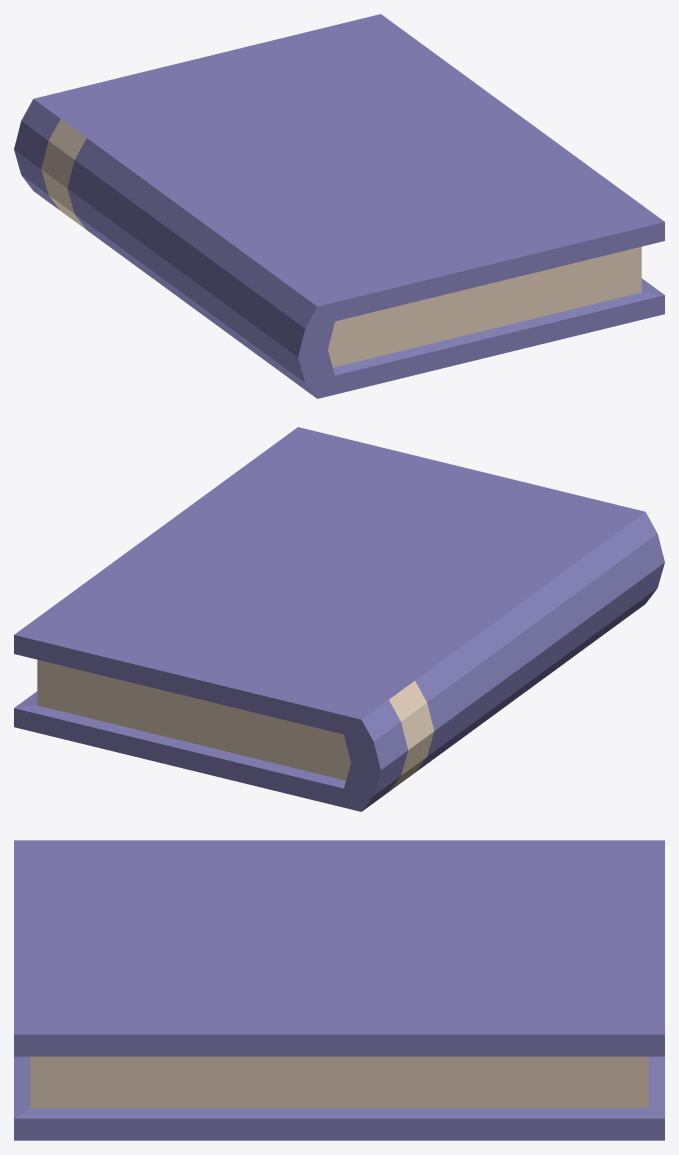
Rendered from Book_01.fbx.
The picture shows the model from 3 angles, top to bottom: view 1: azimuth 30°, elevation 25°; view 2: azimuth 150°, elevation 25°; view 3: azimuth 270°, elevation 25°; orthographic projection. The views are drawn at different scales.
Visible parts, largest first — view 1: Book_01; view 2: Book_01; view 3: Book_01.
Boxes of the visible parts, x1,y1,x2,y2 form: Book_01: (14,14,664,398); Book_01: (14,427,664,811); Book_01: (14,840,664,1140).
Bounding box in the file's own units: 0.3978 × 0.0956 × 0.5334.
